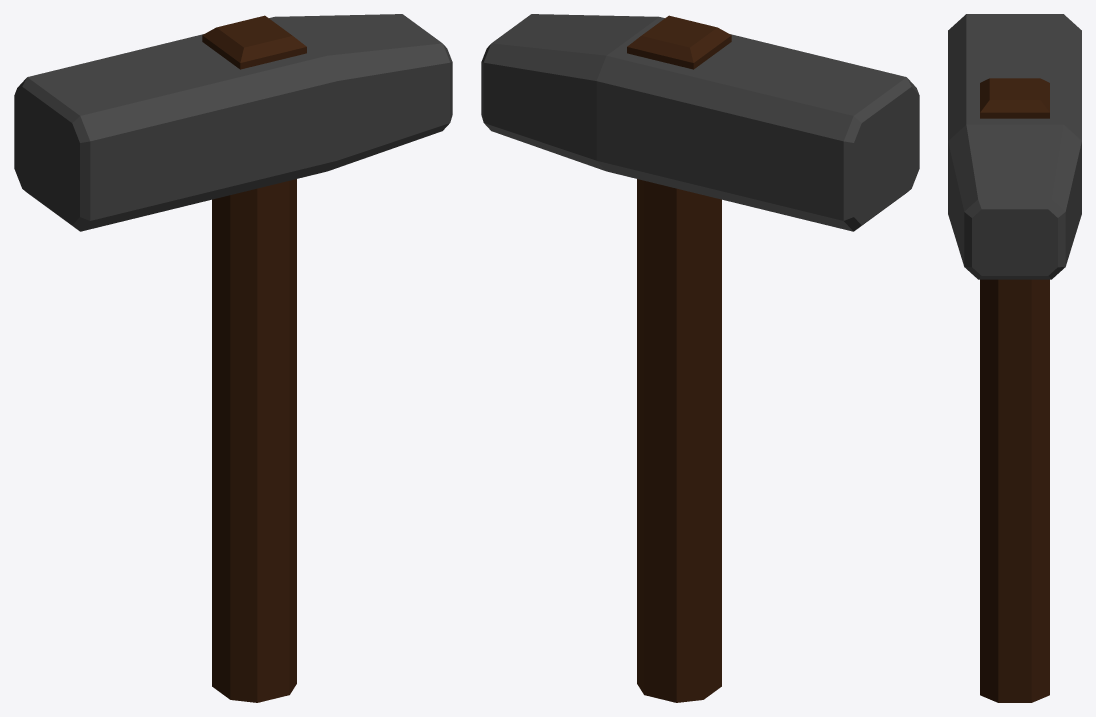
File: Hammer_FBX.fbx
The picture shows the model from 3 angles, left to right: view 1: azimuth 30°, elevation 25°; view 2: azimuth 150°, elevation 25°; view 3: azimuth 270°, elevation 25°; orthographic projection. The views are drawn at different scales.
Parts seen in each view (by area): view 1: Hammer; view 2: Hammer; view 3: Hammer.
Part boxes in pixels (bbox=[...]): Hammer: bbox=[14, 14, 452, 702]; Hammer: bbox=[481, 14, 919, 702]; Hammer: bbox=[948, 14, 1081, 702].
Size of the model in its own units: 20.95 by 34.26 by 6.94.
